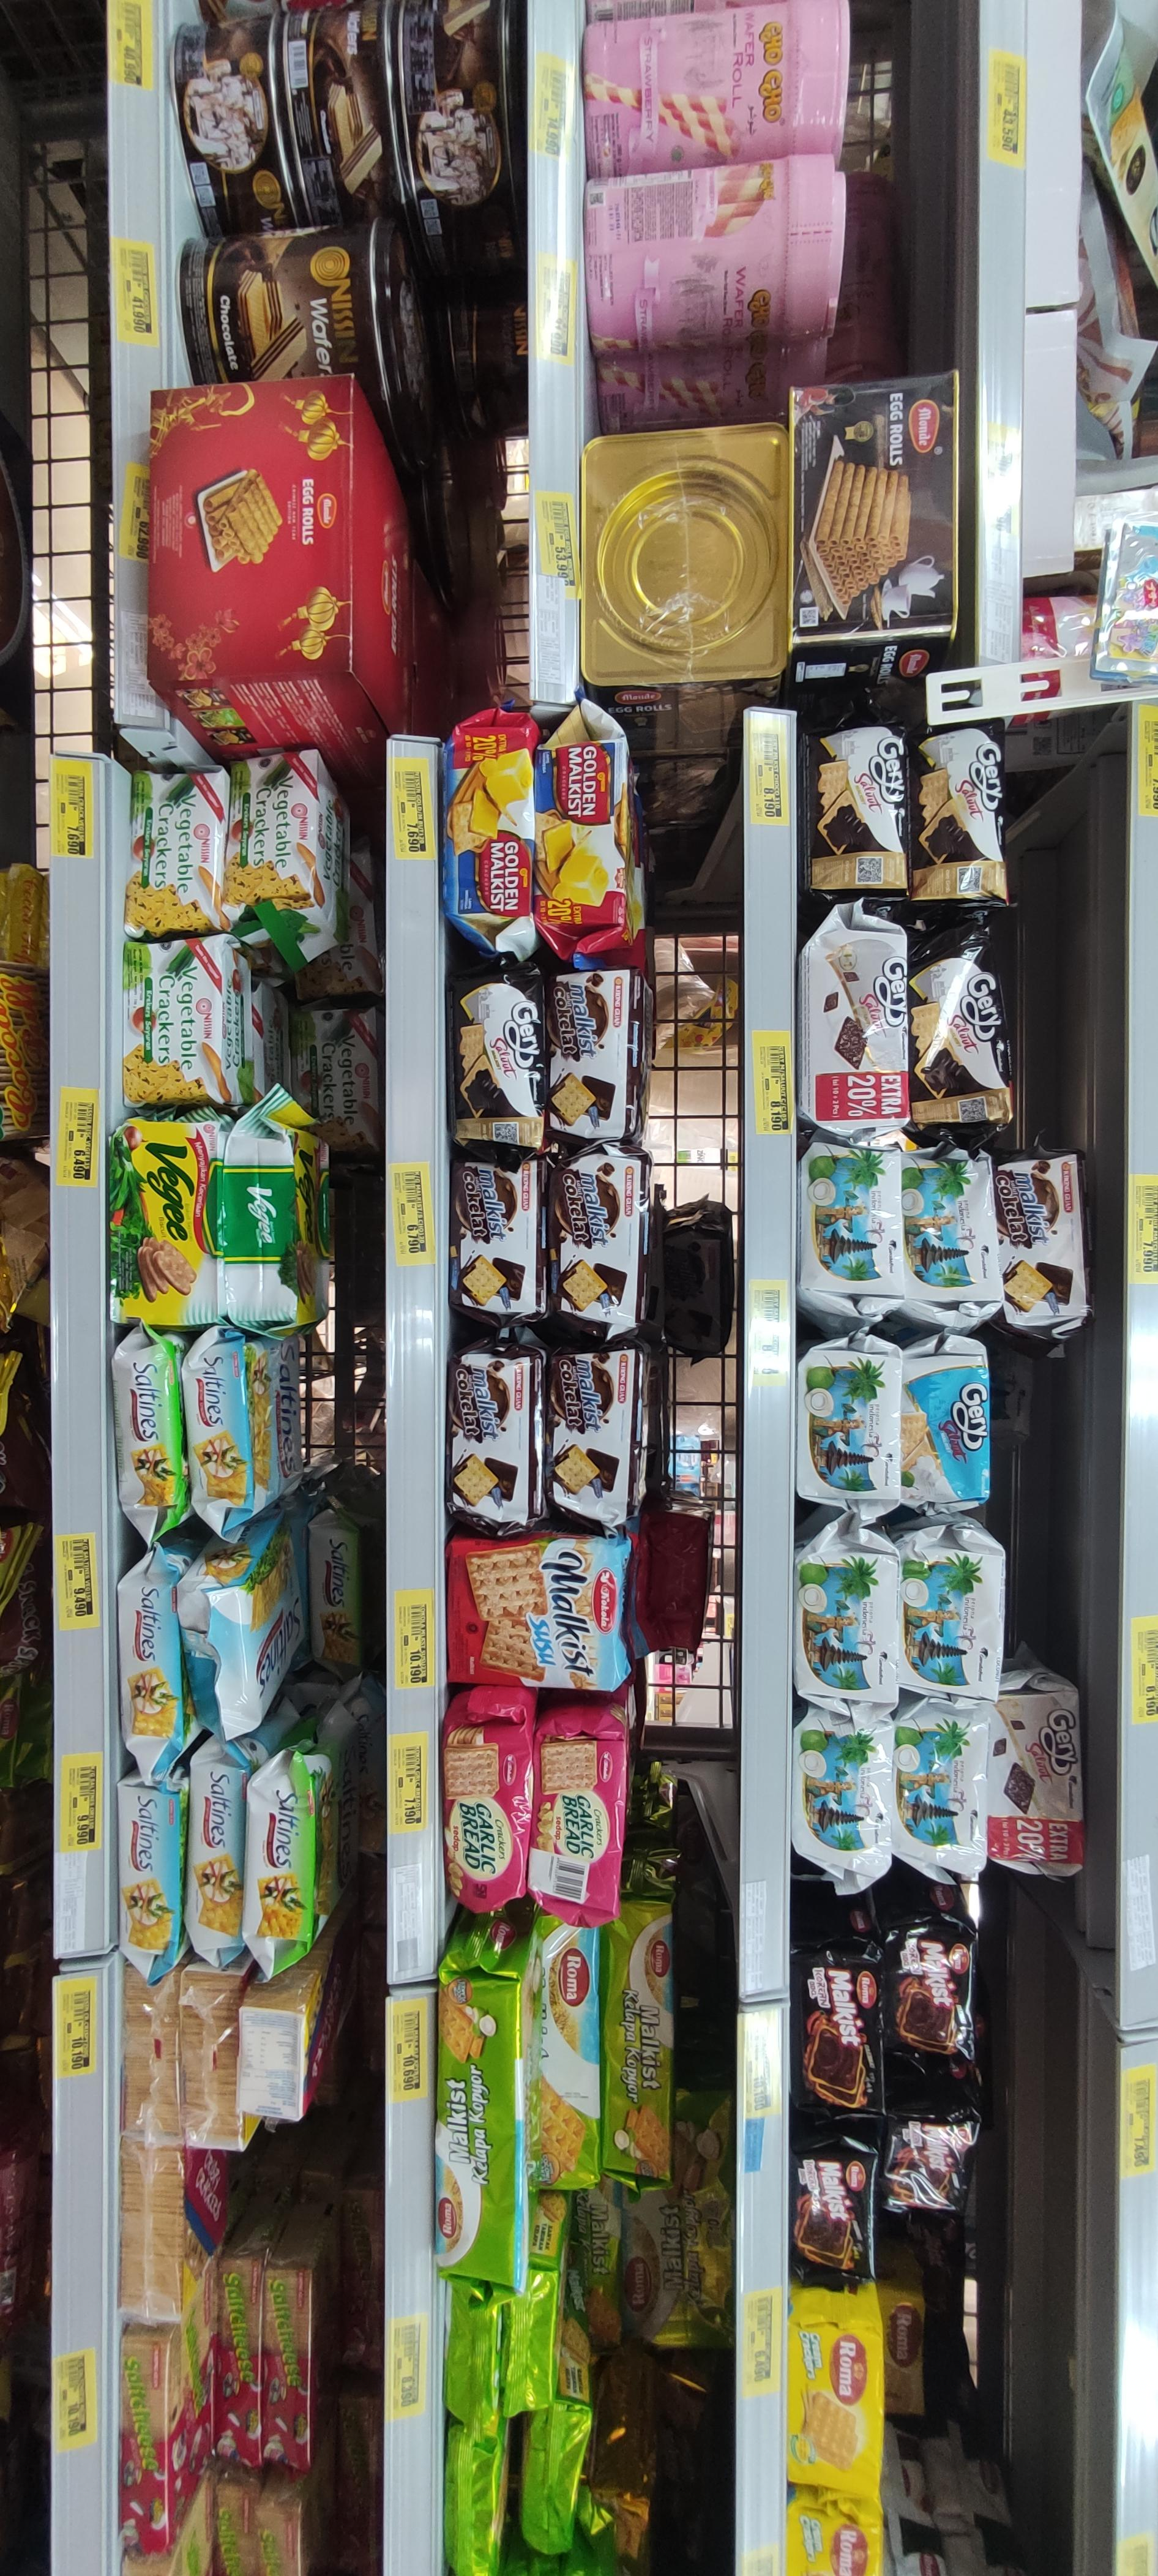90101225202100: (907, 909, 1010, 1125), (798, 723, 910, 892), (910, 718, 1007, 902), (448, 966, 545, 1148)
90101225209100: (795, 1143, 902, 1296), (795, 1549, 898, 1702), (793, 1710, 894, 1865), (898, 1552, 1002, 1699), (798, 1352, 900, 1500), (892, 1709, 987, 1860), (902, 1155, 999, 1301), (900, 1355, 990, 1500)
90101225218101: (798, 931, 910, 1127), (986, 1695, 1084, 1866)
ChoChoWaferRoll: (585, 0, 849, 177)
KhongGuanMalkistSalutCokelat: (544, 1349, 636, 1528), (992, 1152, 1089, 1321), (547, 1158, 639, 1326), (448, 1355, 534, 1521), (547, 968, 629, 1140), (448, 1161, 539, 1311)
KhongGuanSaltcheeseCrackers: (118, 2339, 168, 2556), (214, 2261, 261, 2472), (264, 2269, 312, 2472)
KokolaCrackersGarlicBread: (531, 1738, 624, 1916), (442, 1723, 531, 1904)
KokolaMalkistSusu: (447, 1538, 629, 1692)
MondeEggRolls: (787, 371, 958, 636)
MondeEggRollsChineseNewYearPackage: (151, 373, 353, 675)
NissinGoldenMalkist: (532, 738, 627, 925), (442, 728, 535, 915)
NissinVegeeBiscuit: (107, 1122, 217, 1326), (222, 1130, 296, 1321)
NissinVegetableCrackers: (125, 769, 230, 936), (123, 938, 225, 1104), (225, 752, 319, 909)
RomaMalkistCreamCrackers: (787, 2321, 882, 2492)
RomaMalkistKelapaKopyor: (435, 1975, 521, 2290), (603, 1906, 673, 2177)
RomaMalkistKoreanBBQ: (879, 1924, 976, 2086), (790, 1943, 882, 2114), (788, 2144, 874, 2279)
SaltinesOriginalCrackers: (184, 1339, 253, 1508), (187, 1764, 245, 1948), (115, 1580, 181, 1741), (117, 1784, 179, 1950)
SaltinesVegetableCrackers: (246, 1774, 315, 1939), (113, 1344, 182, 1507), (307, 1528, 358, 1664)
